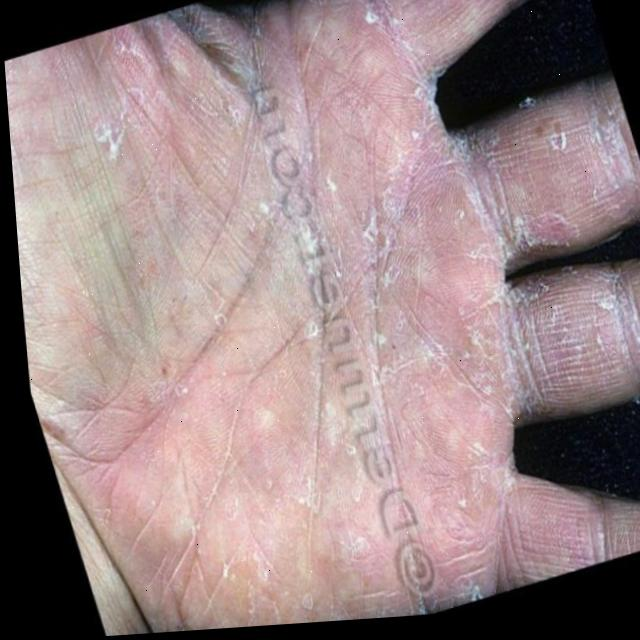Eczema: (129, 0, 605, 614)
